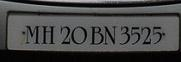2: (58, 24, 70, 44), (140, 25, 151, 44)
3: (118, 25, 129, 44)
5: (150, 25, 162, 44), (129, 25, 140, 44)
B: (89, 25, 103, 45)
H: (41, 24, 55, 44)
M: (24, 24, 39, 44)
N: (103, 24, 116, 45)
O: (70, 24, 87, 44)
